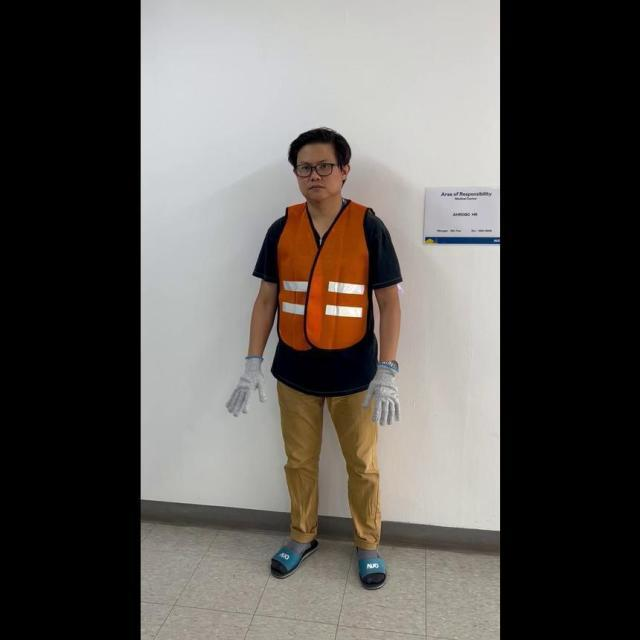gloved_hand: (223, 351, 267, 416), (363, 358, 401, 425)
